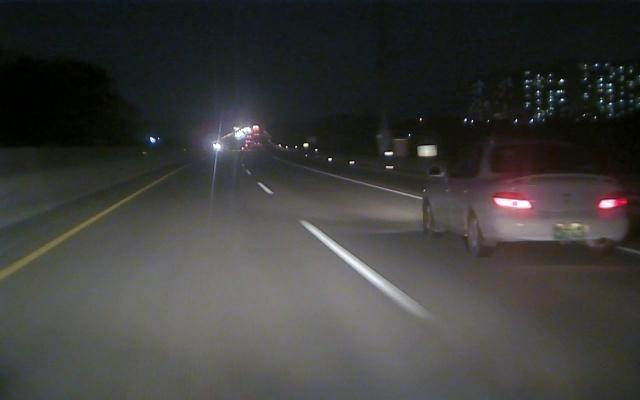lane: (258, 184, 444, 325), (302, 167, 425, 201)
